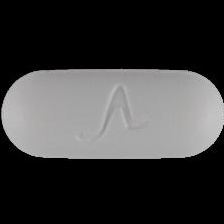52959-913: (0, 0, 224, 224)
